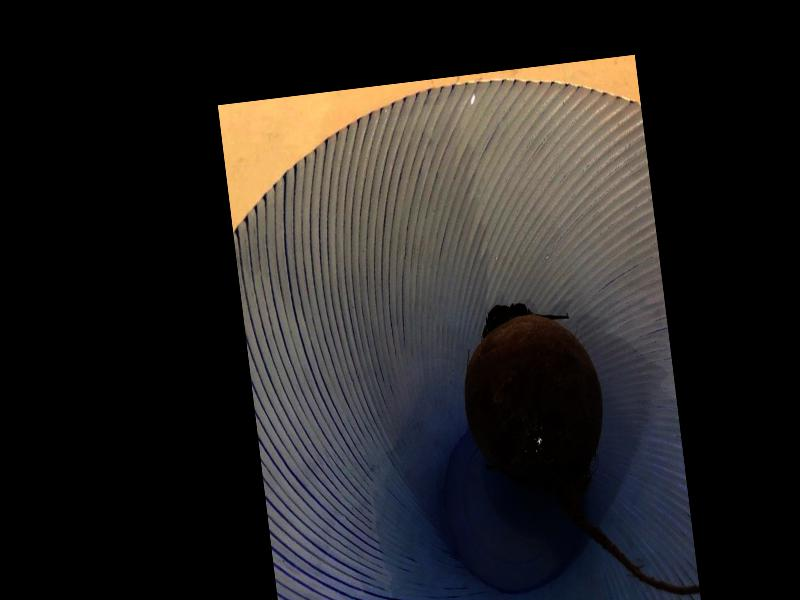Beet: (453, 283, 700, 600)
